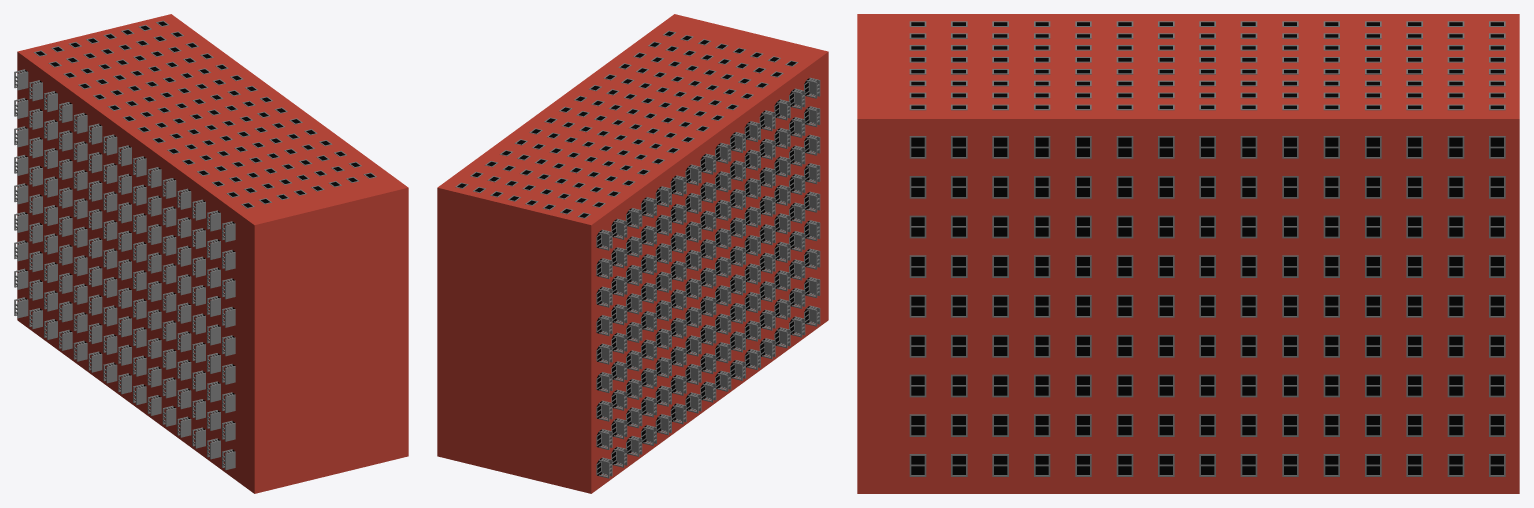
Rendered from high-rise housing2.fbx.
3 renders of one model, left to right at view 1: azimuth 30°, elevation 25°; view 2: azimuth 150°, elevation 25°; view 3: azimuth 270°, elevation 25°, orthographic. The views are drawn at different scales.
Parts seen in each view (by area): view 1: 实体1; view 2: 实体1; view 3: 实体1.
Part boxes in pixels (bbox=[...]): 实体1: bbox=[14, 14, 408, 493]; 实体1: bbox=[437, 14, 828, 493]; 实体1: bbox=[857, 14, 1519, 493].
Size of the model in its own units: 12.62 by 19.72 by 31.5.
